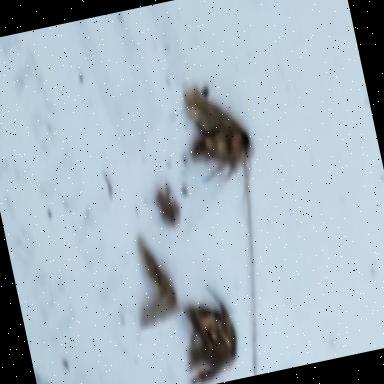pbw: (177, 78, 270, 227), (170, 282, 248, 384)
